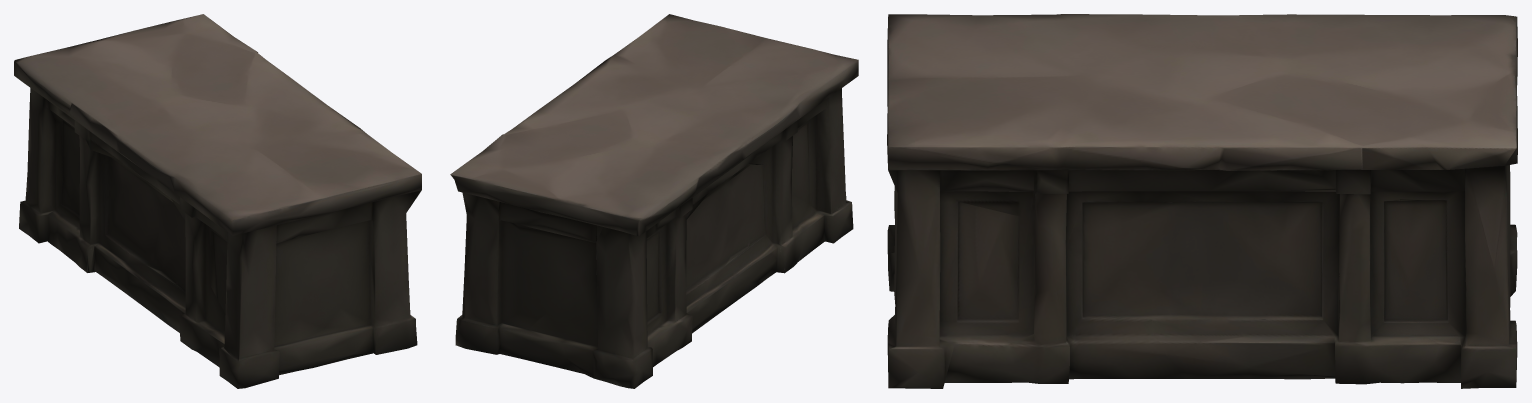
File: wooden+desk+3d+model.glb
3 views of the same model, side by side, from view 1: azimuth 30°, elevation 25°; view 2: azimuth 150°, elevation 25°; view 3: azimuth 270°, elevation 25° (orthographic). The views are drawn at different scales.
Visible parts, largest first — view 1: tripo_node_1ed7eade-61ac-4976-9995-6134ae93ae4b; view 2: tripo_node_1ed7eade-61ac-4976-9995-6134ae93ae4b; view 3: tripo_node_1ed7eade-61ac-4976-9995-6134ae93ae4b.
Boxes of the visible parts, bbox=[...] form: tripo_node_1ed7eade-61ac-4976-9995-6134ae93ae4b: bbox=[14, 14, 421, 388]; tripo_node_1ed7eade-61ac-4976-9995-6134ae93ae4b: bbox=[450, 14, 858, 388]; tripo_node_1ed7eade-61ac-4976-9995-6134ae93ae4b: bbox=[887, 14, 1517, 388].
Size of the model in its own units: 0.5029 by 0.437 by 1.
Materials: 1 (1 with a texture image).
